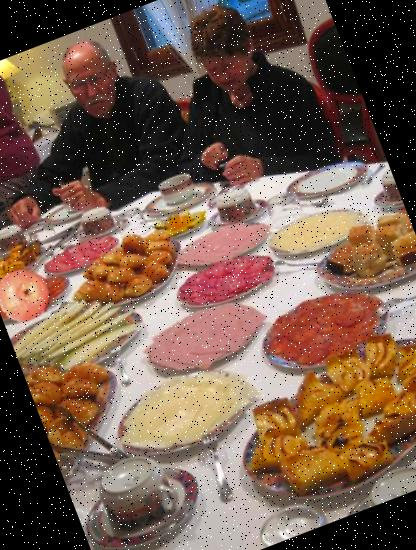Clementine: (0, 260, 60, 332)
